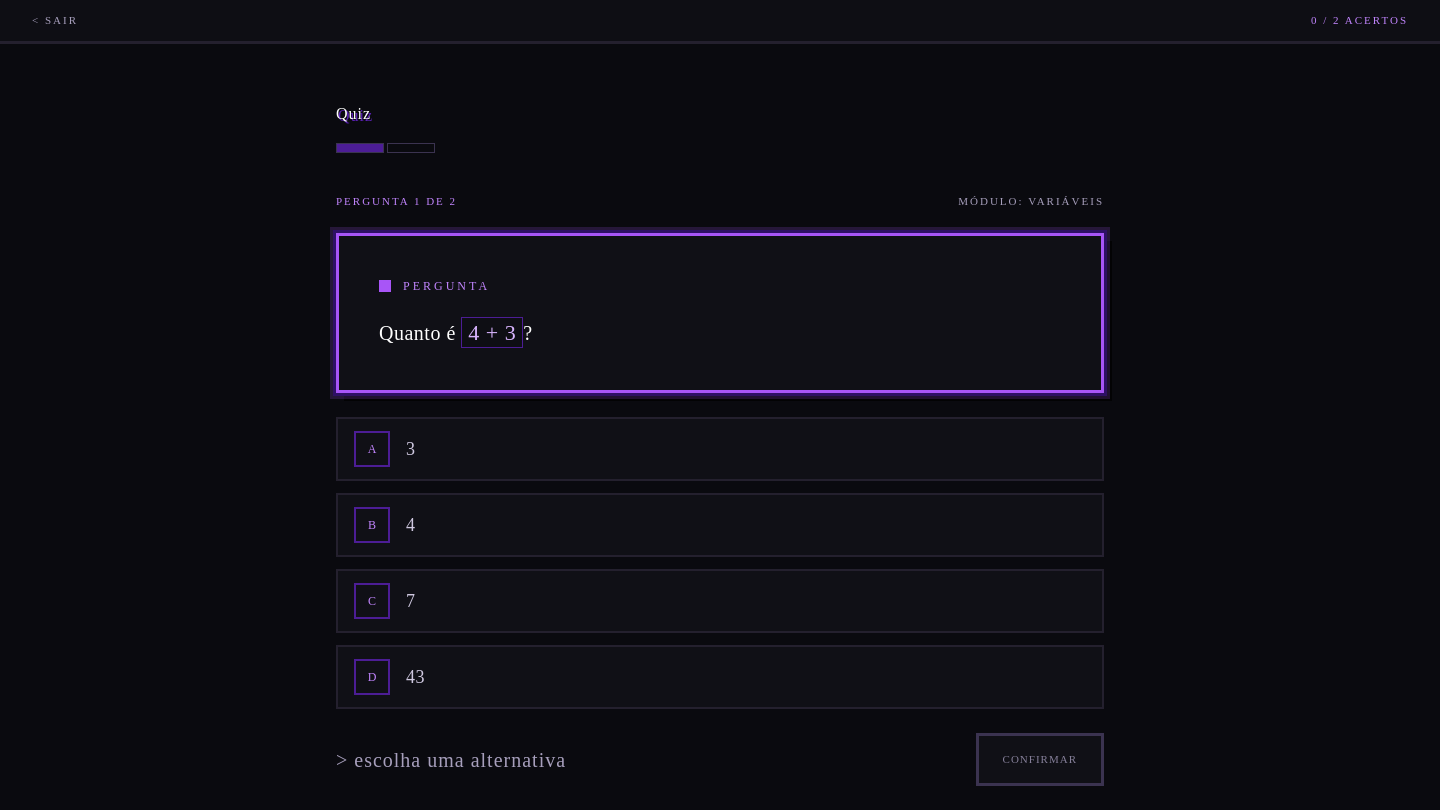
Scenario: QuizDaAula › só confirma depois de escolher
The image size is (1440, 810).
Expected: the text "Pergunta 1 de 2" is shown, x1=336 y1=193 x2=457 y2=209
Expected: the button "Confirmar" is disabled, x1=976 y1=733 x2=1104 y2=786
Click the button "C 7": (372, 601) x1=336 y1=569 x2=1104 y2=633
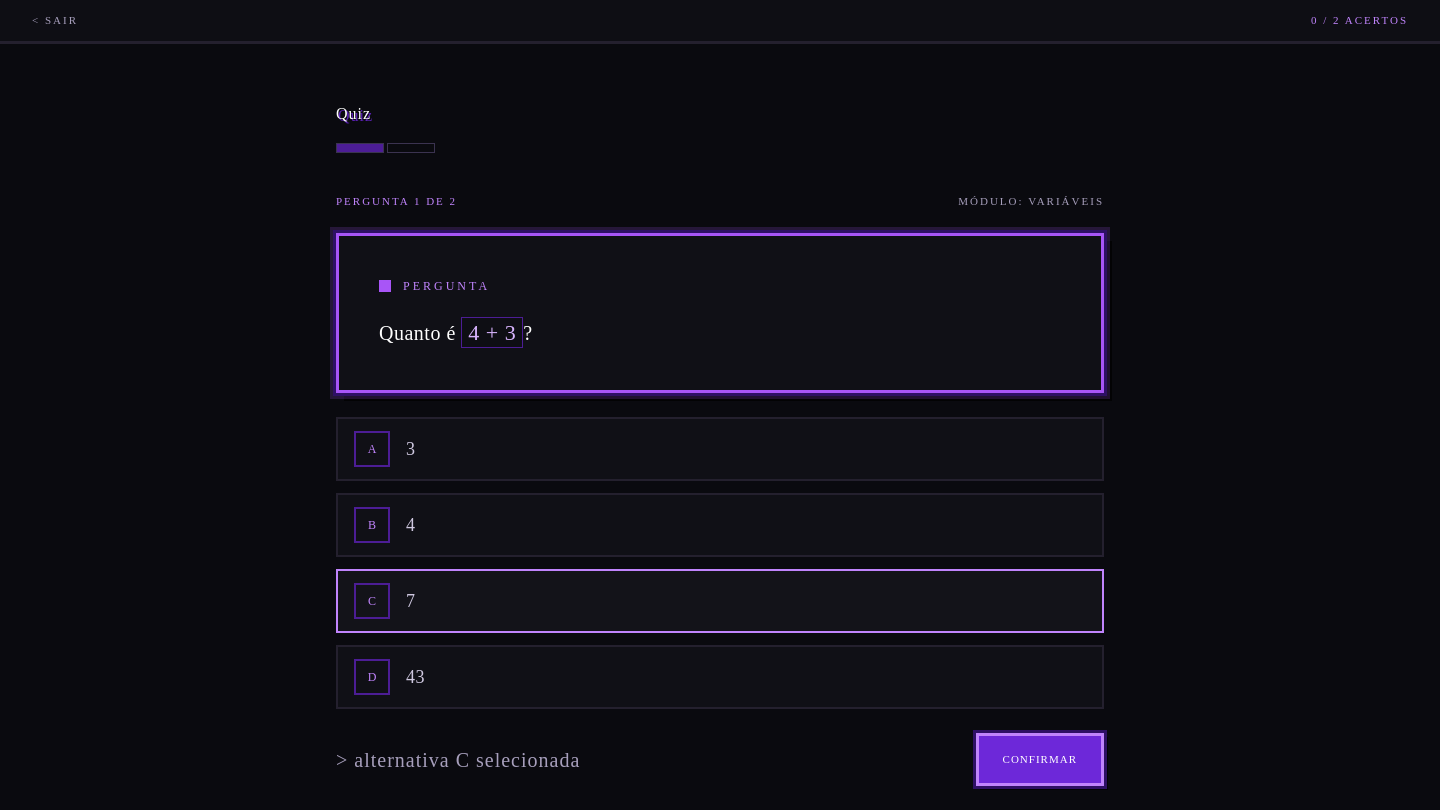
Result: the button "Confirmar" is enabled at x1=976 y1=733 x2=1104 y2=786
